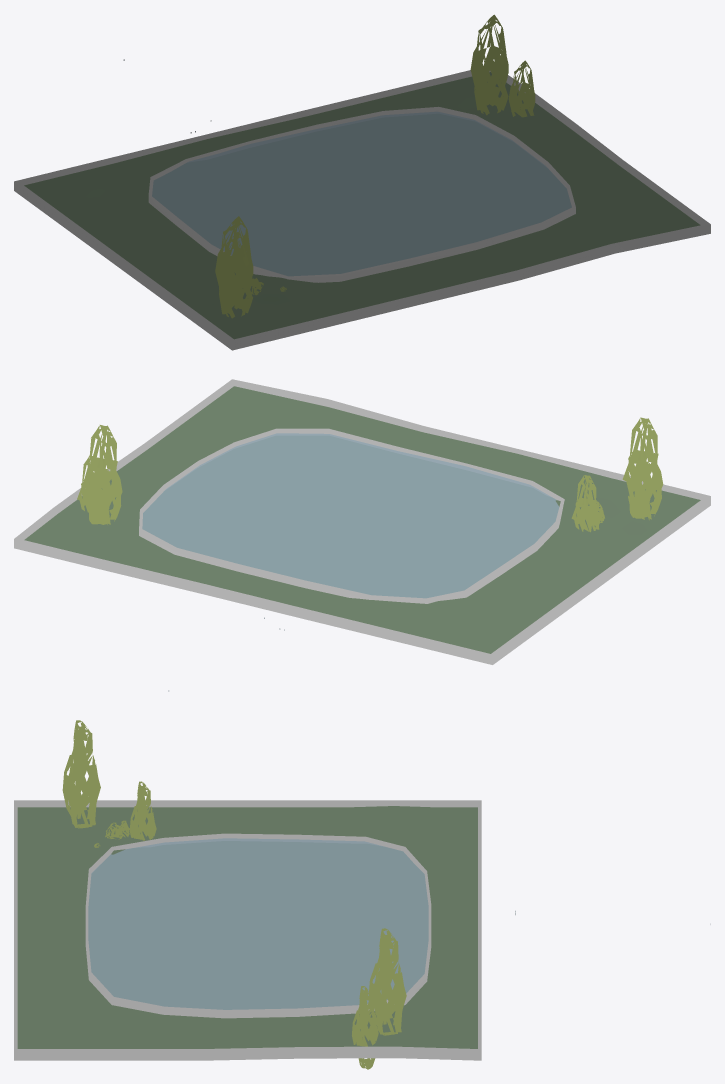
Rendered from lake.glb.
3 views of the same model, one above another, from view 1: azimuth 30°, elevation 25°; view 2: azimuth 150°, elevation 25°; view 3: azimuth 270°, elevation 25° (orthographic). The views are drawn at different scales.
Parts seen in each view (by area): view 1: Grass.005; view 2: Grass.005; view 3: Grass.005.
Part boxes in pixels (left/top/right/bottom): Grass.005: left=14, top=14, right=710, bottom=350; Grass.005: left=14, top=379, right=710, bottom=691; Grass.005: left=14, top=720, right=710, bottom=1069.
Bounding box in the file's own units: 437 × 105 × 514.
